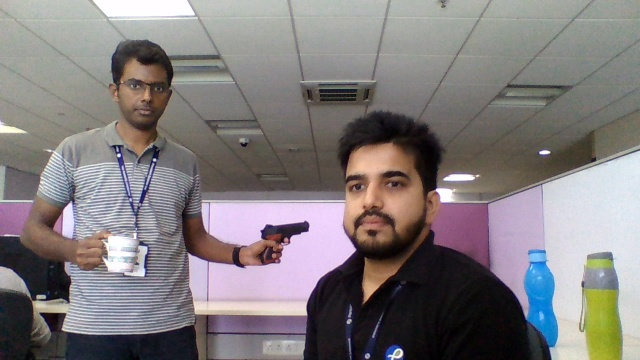gun: (260, 221, 310, 242)
